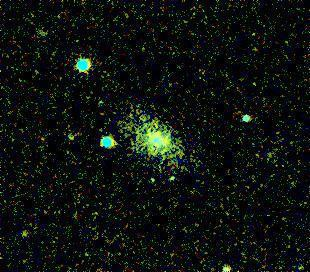star: (10, 219, 40, 249)
